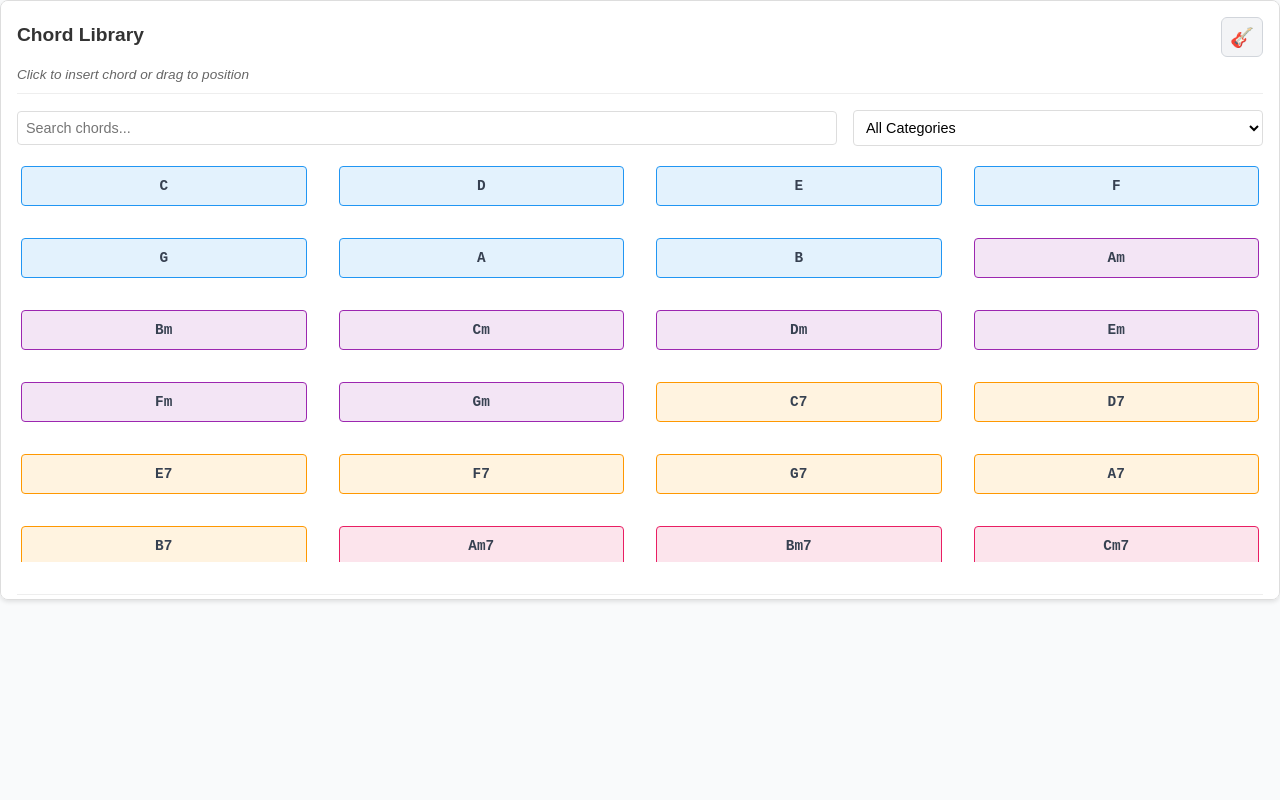
Test: ChordPalette › shows clear search button when searching
Type "G" into the field with placeholder "Search chords..." at (427,128), box [17, 111, 837, 145]
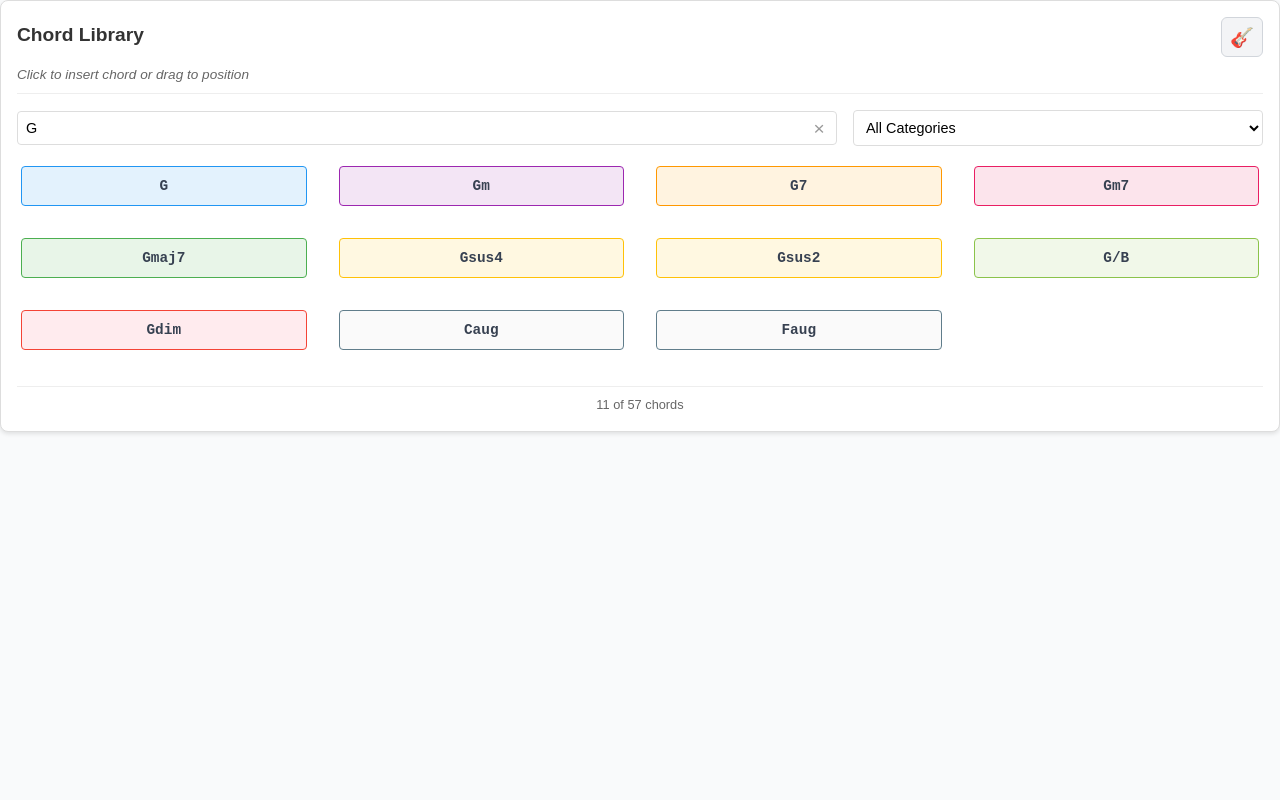
Check: the button named "Clear search" is shown
Click the button named "Clear search" at (819,128), box [809, 118, 829, 138]
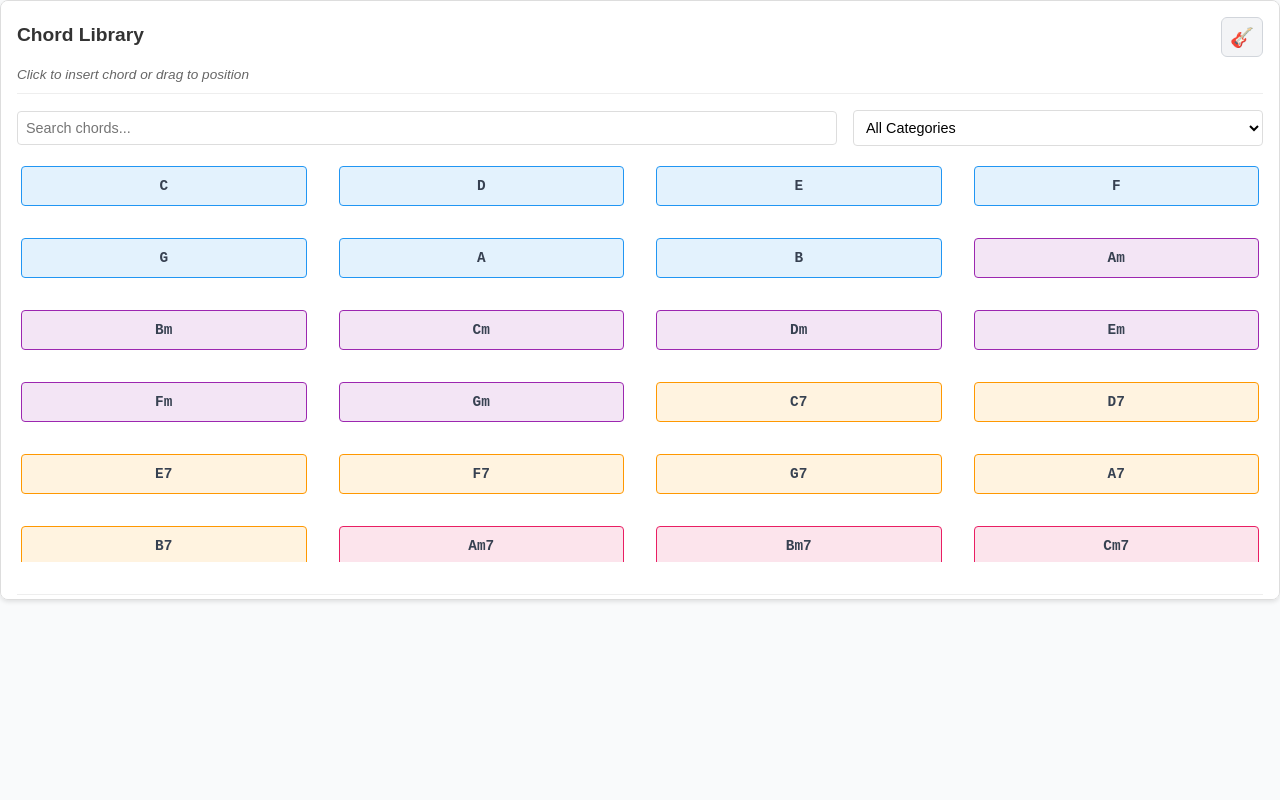
Check: the field with placeholder "Search chords..." is empty, box [17, 111, 837, 145]
